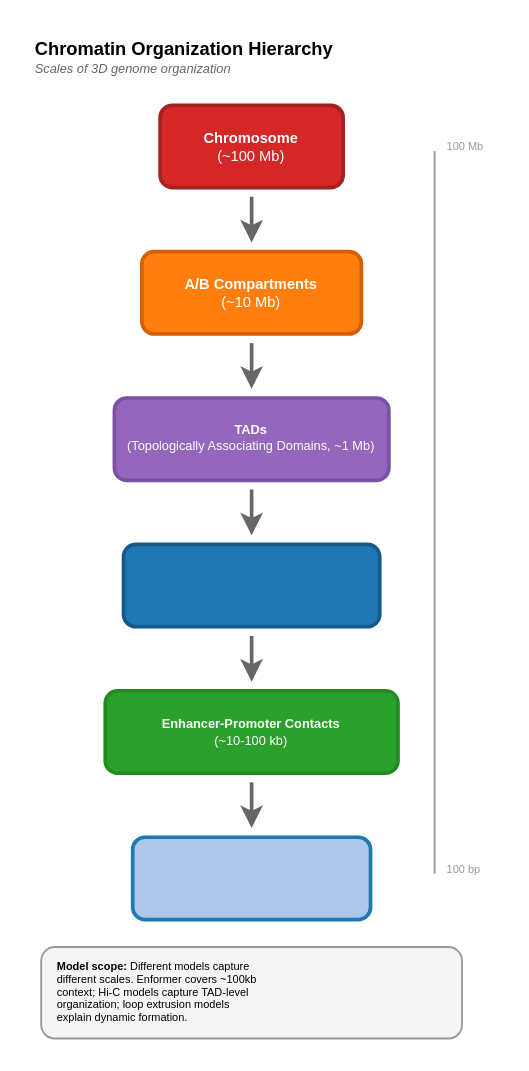
The diagram is 529 pixels wide and 1071 high, and some of its shapes have lost their labels. The centre of each missing label's shape, as x and y in pixels:
Chromatin Loops (CTCF-mediated, ~100 kb): (251,585)
Nucleosome (~147 bp): (250,877)
